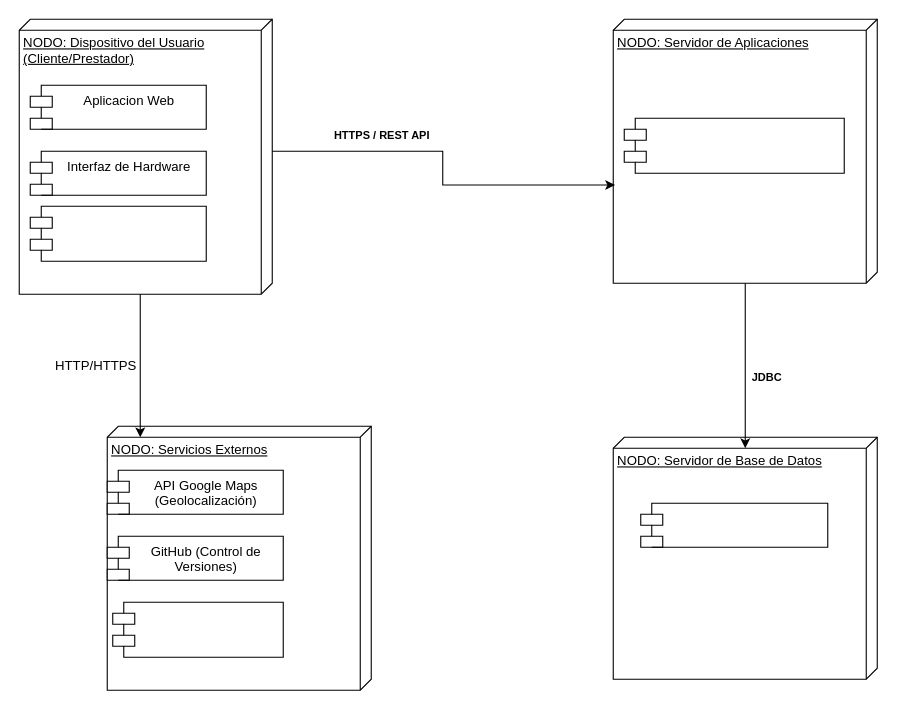
This 897x710 diagram has some shape labels left out. The shapes that lost their labels are listed below. From the top down, each one's centre as x and y in pixels, then its label:
At pixel 733 145: "Aplicación Backend Java + Spring Boot (Lógica de Negocio)".
At pixel 117 233: "Navegador Web".
At pixel 734 524: "Base de Datos Relacional MySQL".
At pixel 197 629: "Cloudinary (Almacenamiento de Imágenes)".
